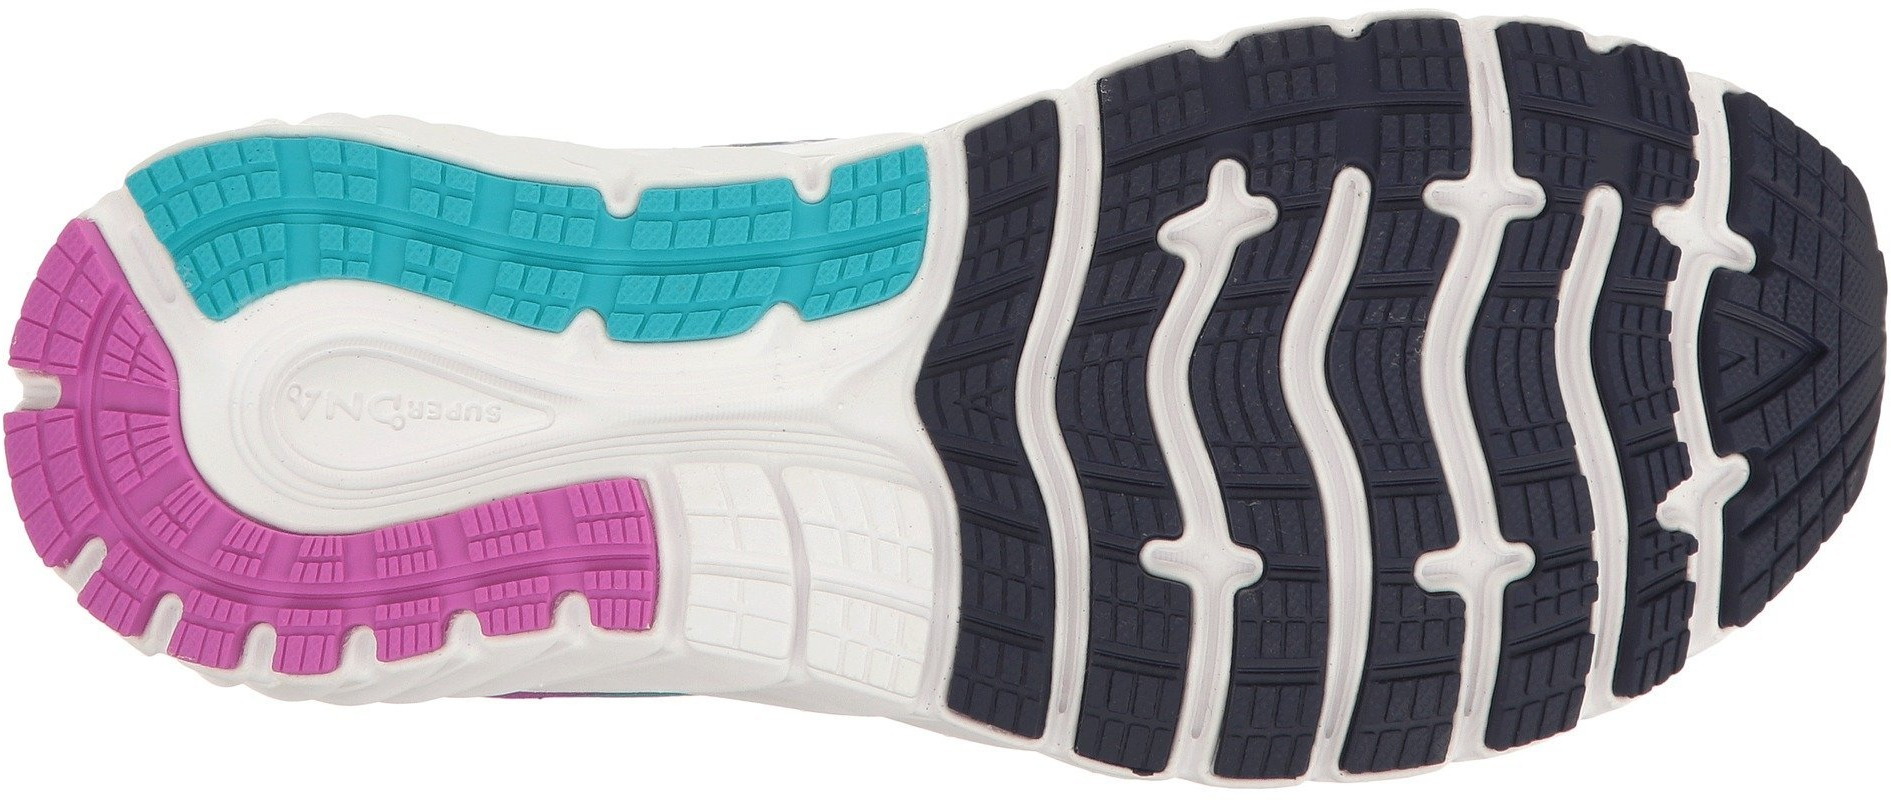chevron: (1119, 150, 1645, 683)
quad: (1119, 150, 1645, 683), (463, 472, 655, 639), (305, 138, 486, 310), (611, 174, 795, 343), (293, 516, 445, 671)
ribbon: (677, 296, 935, 536), (935, 448, 1131, 635), (954, 195, 1148, 373), (1643, 458, 1770, 581), (1649, 144, 1770, 267)
text: (287, 374, 367, 442), (368, 380, 443, 443), (441, 388, 504, 444)
triangle: (1696, 267, 1879, 458)
